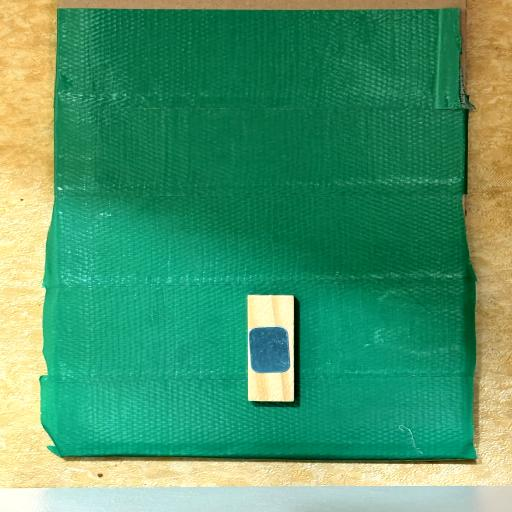objects: (247, 295, 294, 402)
